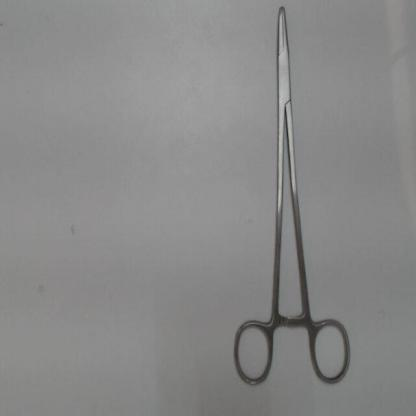8 Mayo Needle Holder: (226, 4, 358, 394)
